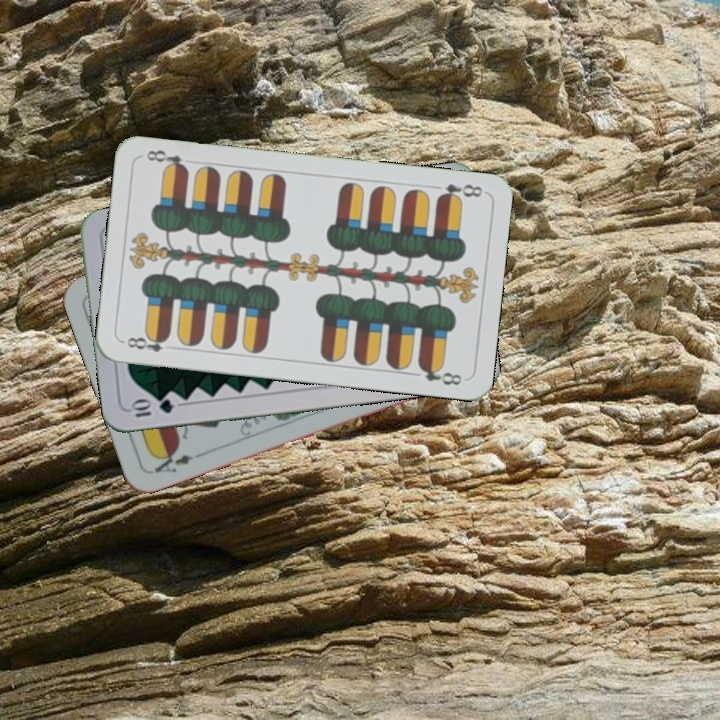E8: (119, 330, 171, 355), (433, 180, 485, 204)
EA: (149, 446, 196, 476)
G10: (127, 395, 177, 420)
